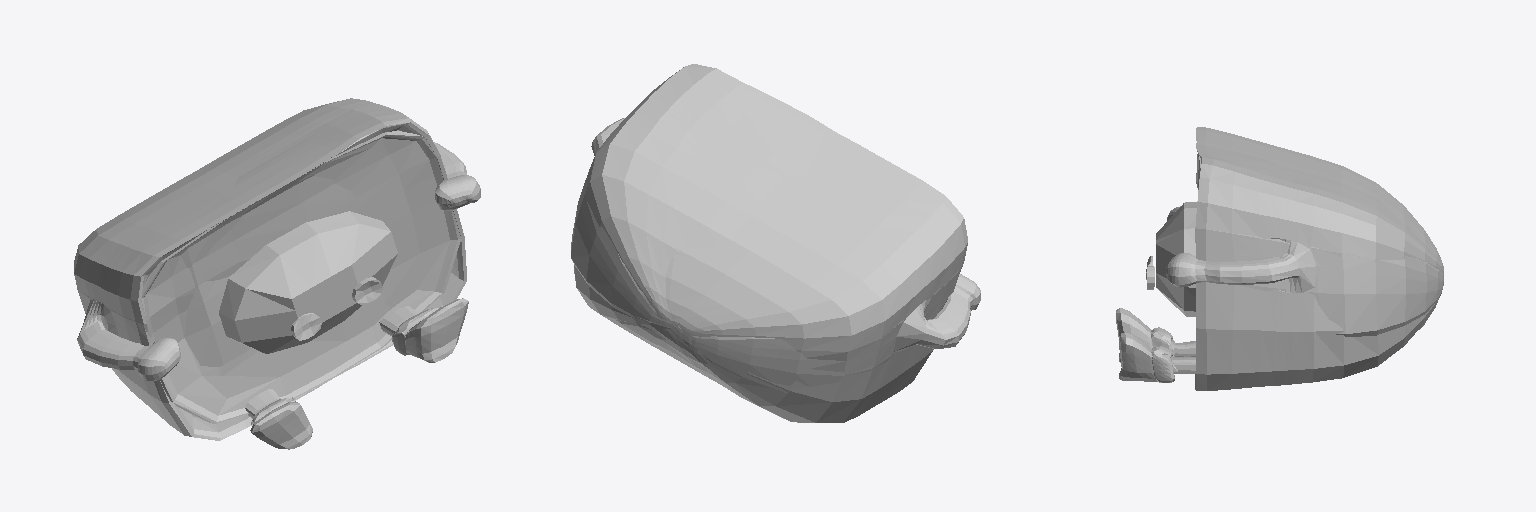
File: Pal_000034.obj
3 views of the same model, side by side, from view 1: azimuth 30°, elevation 25°; view 2: azimuth 150°, elevation 25°; view 3: azimuth 270°, elevation 25° (orthographic).
Visible parts, largest first — view 1: Cuerpo_de_aguacate_3.001_Cube.002, Hueso_Cubo.003, Ojos_Cubo.002; view 2: Cuerpo_de_aguacate_3.001_Cube.002; view 3: Cuerpo_de_aguacate_3.001_Cube.002, Hueso_Cubo.003.
Part boxes in pixels (x1,y1,x2,y2): Cuerpo_de_aguacate_3.001_Cube.002: (74,98,480,449); Hueso_Cubo.003: (219,211,397,353); Ojos_Cubo.002: (291,277,382,340); Cuerpo_de_aguacate_3.001_Cube.002: (571,64,980,422); Cuerpo_de_aguacate_3.001_Cube.002: (1116,127,1443,390); Hueso_Cubo.003: (1156,202,1196,316).
Bounding box in the file's own units: 1.29 × 0.9241 × 1.01.